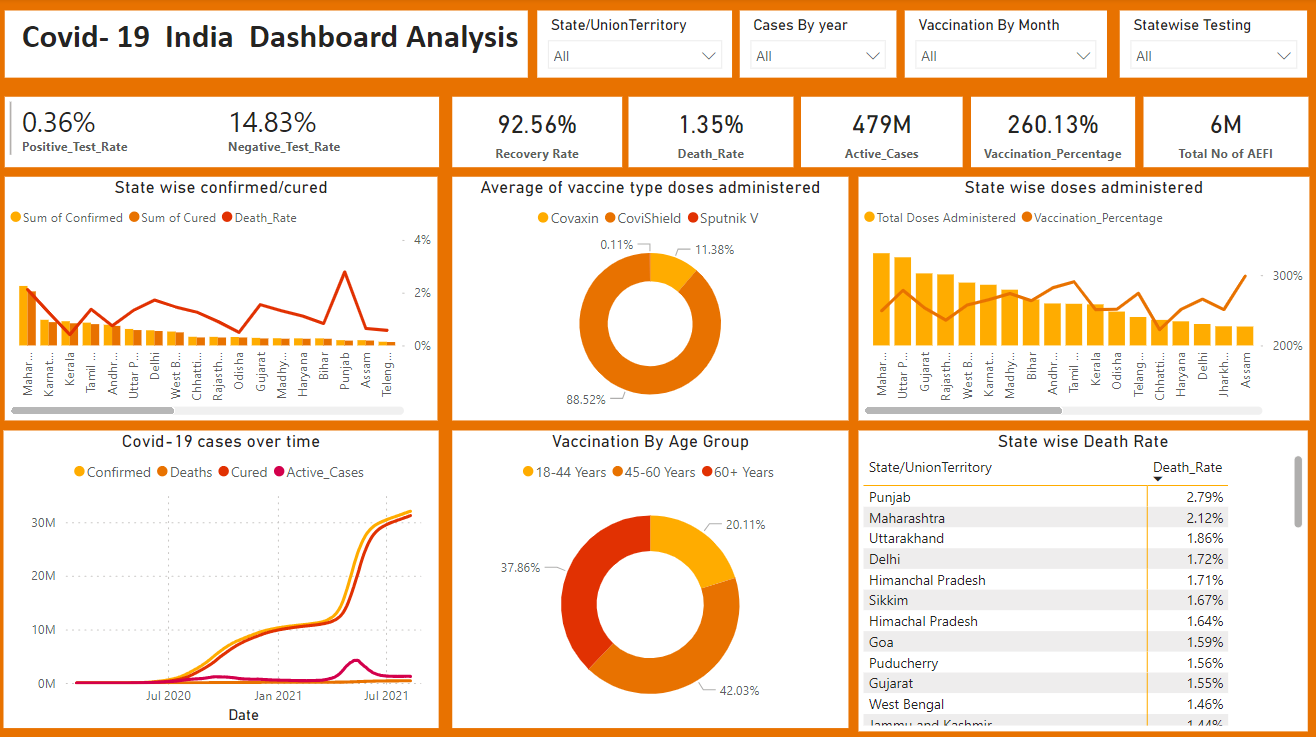

What the dashboard file says about the page in this screenshot:
{"tool":"powerbi","page":{"name":"Page 1","canvas":[1280,720],"ordinal":0},"visuals":[{"type":"lineChart","title":"Covid-19 cases over time","fields":{"Category":["covid_19_india.Date"],"Y":["Sum(covid_19_india.Confirmed)","Sum(covid_19_india.Deaths)","Sum(covid_19_india.Cured)","covid_19_india.Active_Cases"]},"box":[7.5,417.5,420,287.5],"z":0},{"type":"pivotTable","title":"State wise Death Rate","fields":{"Rows":["covid_19_india.State/UnionTerritory"],"Values":["covid_19_india.Death_Rate"]},"box":[832.5,417.5,433.8,290],"z":1000},{"type":"lineClusteredColumnComboChart","title":"State wise confirmed/cured","fields":{"Category":["covid_19_india.State/UnionTerritory"],"Y2":["covid_19_india.Death_Rate"],"Y":["Sum(covid_19_india.Confirmed)","Sum(covid_19_india.Cured)"]},"box":[8.8,172.5,417.5,235],"z":2000},{"type":"card","fields":{"Values":["covid_19_india.Active_Cases"]},"box":[777,95,156,68],"z":3000},{"type":"card","fields":{"Values":["covid_19_india.Active_Cases"]},"box":[624,317,146,68],"z":4000},{"type":"donutChart","title":"Average of vaccine type doses administered","fields":{"Y":["Avg(covid_vaccine_statewise. Covaxin (Doses Administered))","Avg(covid_vaccine_statewise.CoviShield (Doses Administered))","Avg(covid_vaccine_statewise.Sputnik V (Doses Administered))"]},"box":[440,172.5,382.5,235],"z":5000},{"type":"donutChart","title":"Vaccination By Age Group","fields":{"Y":["Sum(covid_vaccine_statewise.18-44 Years(Individuals Vaccinated))","Sum(covid_vaccine_statewise.45-60 Years(Individuals Vaccinated))","Sum(covid_vaccine_statewise.60+ Years(Individuals Vaccinated))"]},"box":[440,417.5,382.5,287.5],"z":6000},{"type":"textbox","box":[9,12,505,65],"z":7000},{"type":"slicer","fields":{"Values":["covid_19_india.State/UnionTerritory"]},"box":[522,12,188,65],"z":8000},{"type":"slicer","fields":{"Values":["covid_19_india.Date (groups)"]},"box":[718,12,151,65],"z":9000},{"type":"lineStackedColumnComboChart","title":"State wise doses administered","fields":{"Category":["covid_vaccine_statewise.State"],"Y2":["covid_vaccine_statewise.Total_Vaccination_Percentage"],"Y":["Sum(covid_vaccine_statewise.Total Doses Administered)"]},"box":[832.5,172.5,435,235],"z":10000},{"type":"slicer","fields":{"Values":["covid_vaccine_statewise.Updated On (groups)"]},"box":[877,12,195,65],"z":11000},{"type":"multiRowCard","fields":{"Values":["StatewiseTestingDetails.Positive_Test_Rate","StatewiseTestingDetails.Negative_Test_Rate"]},"box":[9,95,419,68],"z":12000},{"type":"card","fields":{"Values":["covid_vaccine_statewise.Total_Vaccination_Percentage"]},"box":[941,95,158,68],"z":13000},{"type":"card","fields":{"Values":["StatewiseTestingDetails.Negative_Test_Rate"]},"box":[1108,95,159,68],"z":14000},{"type":"card","fields":{"Values":["covid_19_india.Recovery Rate"]},"box":[440,95,164,68],"z":15000},{"type":"card","fields":{"Values":["covid_19_india.Death_Rate"]},"box":[611,95,159,68],"z":16000},{"type":"slicer","fields":{"Values":["StatewiseTestingDetails.State"]},"box":[1085,12,181,65],"z":17000}]}

Visuals, with their boxes in screenshot pixels (x1, y1, x2, y2), scaled from the page's 1280x720 canvas onto the 1316x737 screenshot:
"Covid-19 cases over time" lineChart: region(8, 427, 440, 722)
"State wise Death Rate" pivotTable: region(856, 427, 1302, 724)
"State wise confirmed/cured" lineClusteredColumnComboChart: region(9, 177, 438, 417)
card - covid_19_india.Active_Cases: region(799, 97, 959, 167)
card - covid_19_india.Active_Cases: region(642, 324, 792, 394)
"Average of vaccine type doses administered" donutChart: region(452, 177, 846, 417)
"Vaccination By Age Group" donutChart: region(452, 427, 846, 722)
textbox: region(9, 12, 528, 79)
slicer - covid_19_india.State/UnionTerritory: region(537, 12, 730, 79)
slicer - covid_19_india.Date (groups): region(738, 12, 893, 79)
"State wise doses administered" lineStackedColumnComboChart: region(856, 177, 1303, 417)
slicer - covid_vaccine_statewise.Updated On (groups): region(902, 12, 1102, 79)
multiRowCard - StatewiseTestingDetails.Positive_Test_Rate x StatewiseTestingDetails.Negative_Test_Rate: region(9, 97, 440, 167)
card - covid_vaccine_statewise.Total_Vaccination_Percentage: region(967, 97, 1130, 167)
card - StatewiseTestingDetails.Negative_Test_Rate: region(1139, 97, 1303, 167)
card - covid_19_india.Recovery Rate: region(452, 97, 621, 167)
card - covid_19_india.Death_Rate: region(628, 97, 792, 167)
slicer - StatewiseTestingDetails.State: region(1116, 12, 1302, 79)
